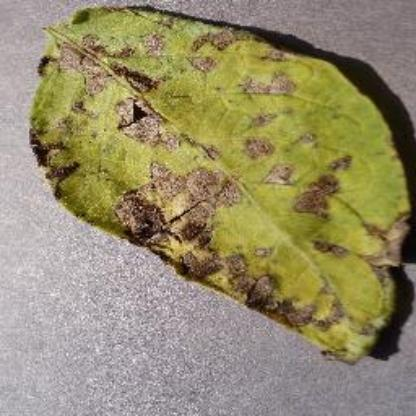Early-Blight: (27, 5, 413, 367)
